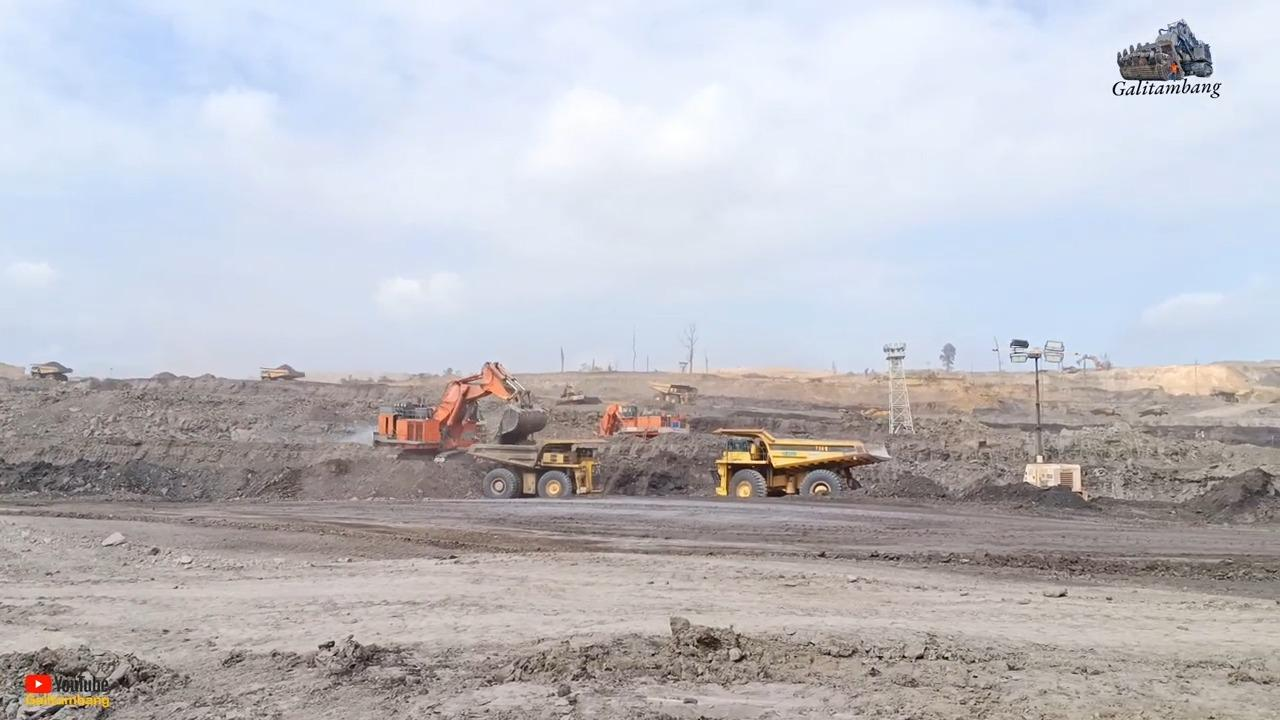Excavator: (373, 362, 548, 461)
HD-Truck: (714, 428, 891, 498), (468, 439, 606, 498)
